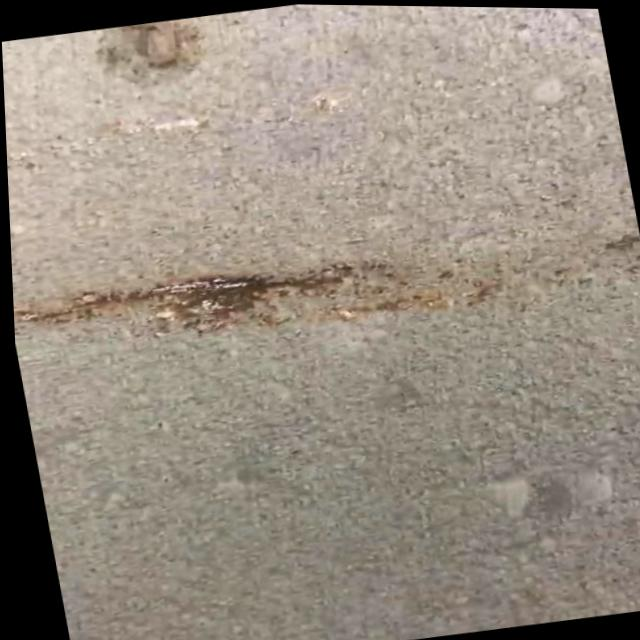Crack: (10, 237, 449, 363)
